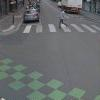Crosswalk: (12, 19, 98, 41)
